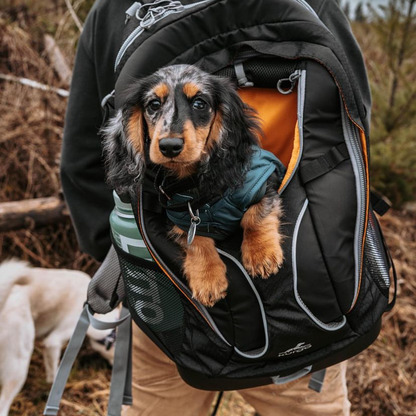dachshund: (85, 55, 303, 309)
